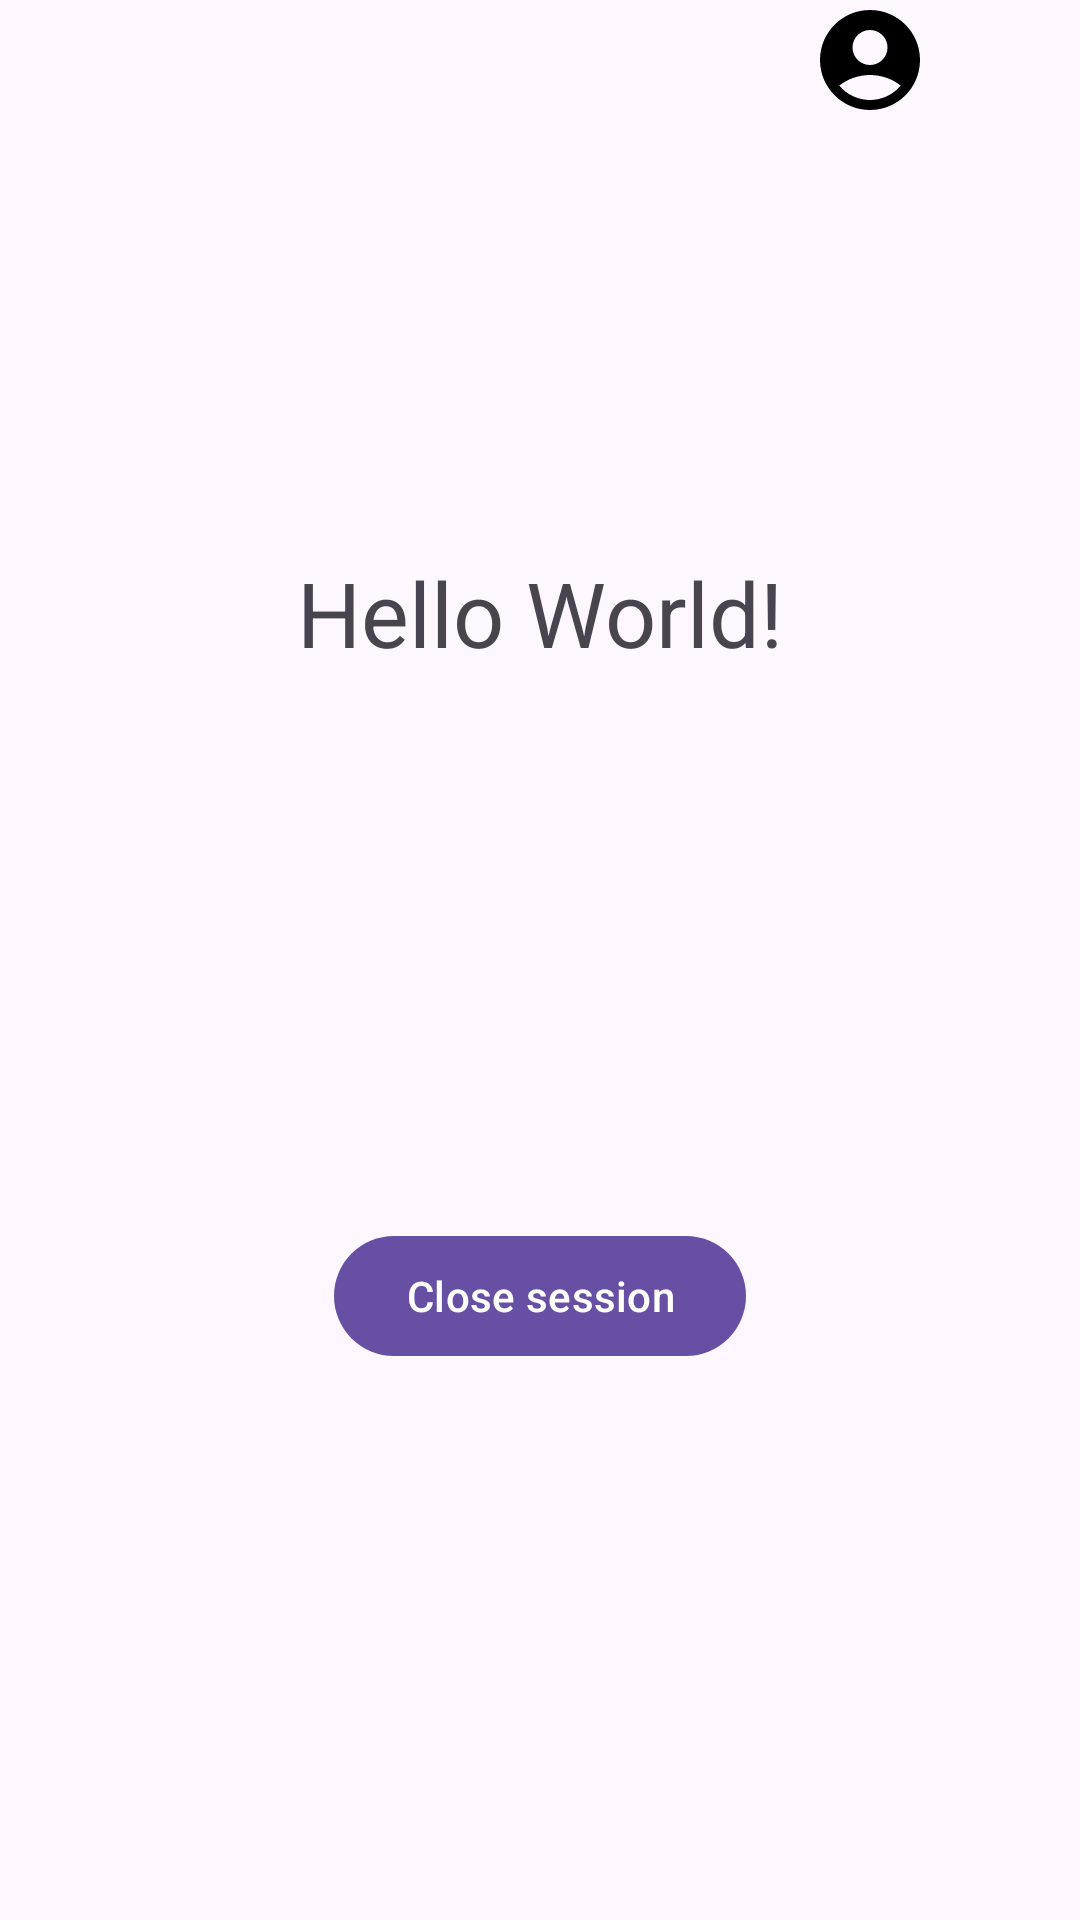

Screen size 1080 x 1920. Icon name, then its box in pixels as BBox(x1, y1, x2, y2):
account circle: BBox(820, 10, 920, 110)
